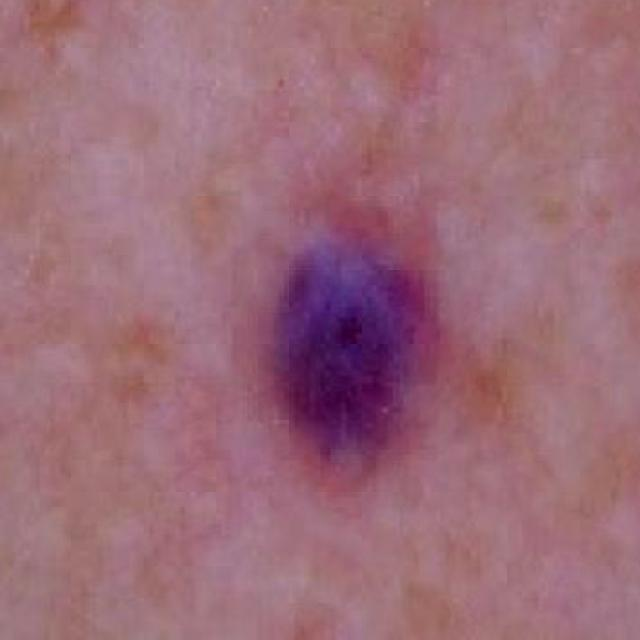VASC: (207, 120, 501, 500)
